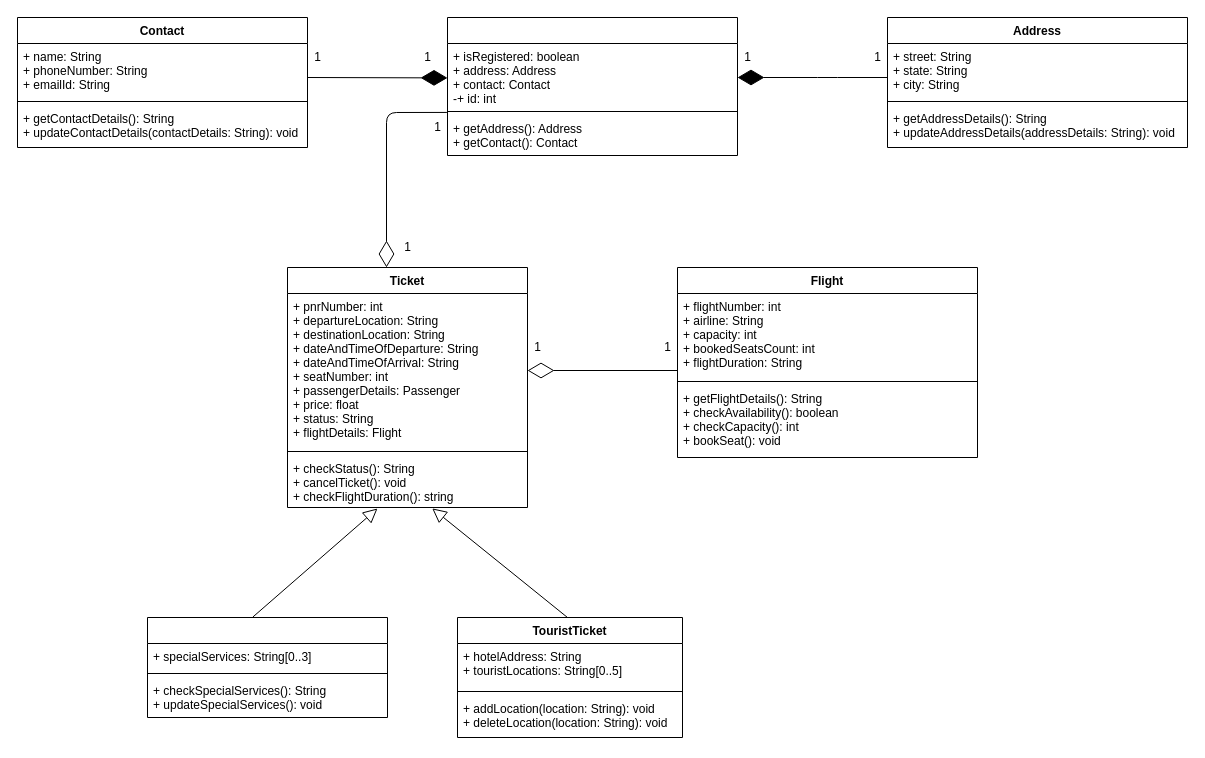
Some shapes in this 1205 by 758 pixel diagram are drawn without their labels. Here are the shapes that lost their labels. From the top down, the box of each, then its label:
(446, 16, 738, 156): Passenger
(146, 616, 388, 718): RegularTicket
